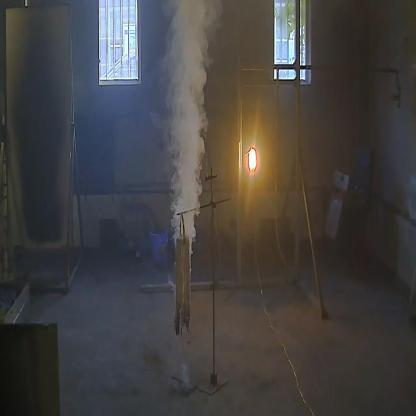smoke: (160, 0, 215, 211)
